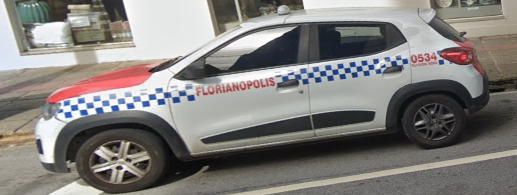car: (40, 5, 493, 191)
